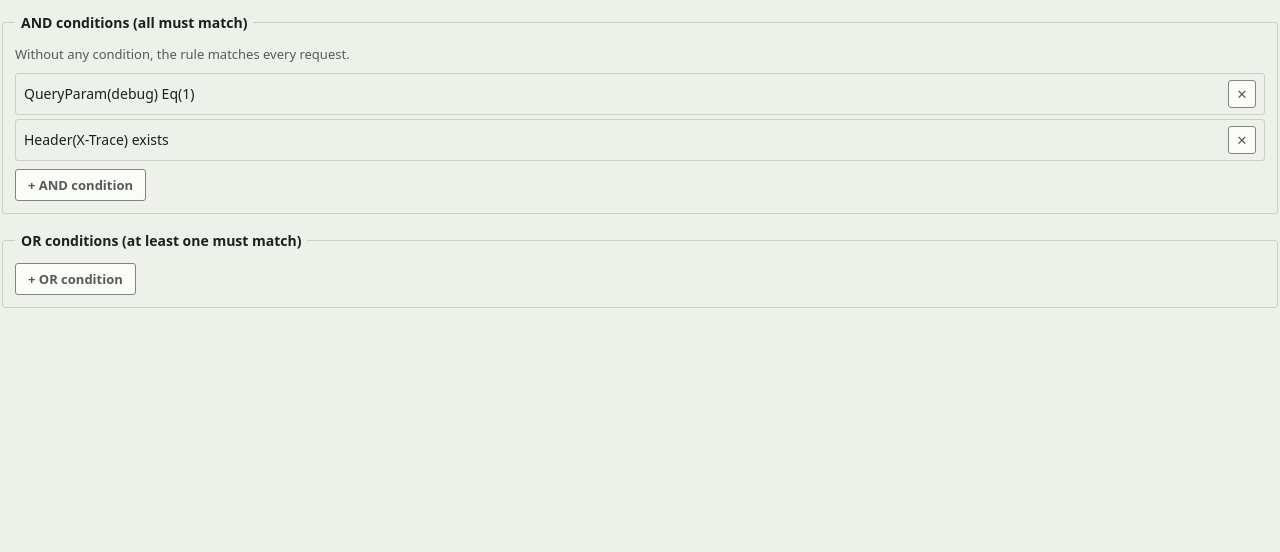
Test: RuleConditionsEditor: in-place edit of an existing condition › clicking a condition opens ConditionForm filled with its current values
This screenshot has width=1280, height=552.
Click the button with test id "rule-form-edit-condition-allof-button-1" at (96, 140), box [18, 125, 1226, 154]
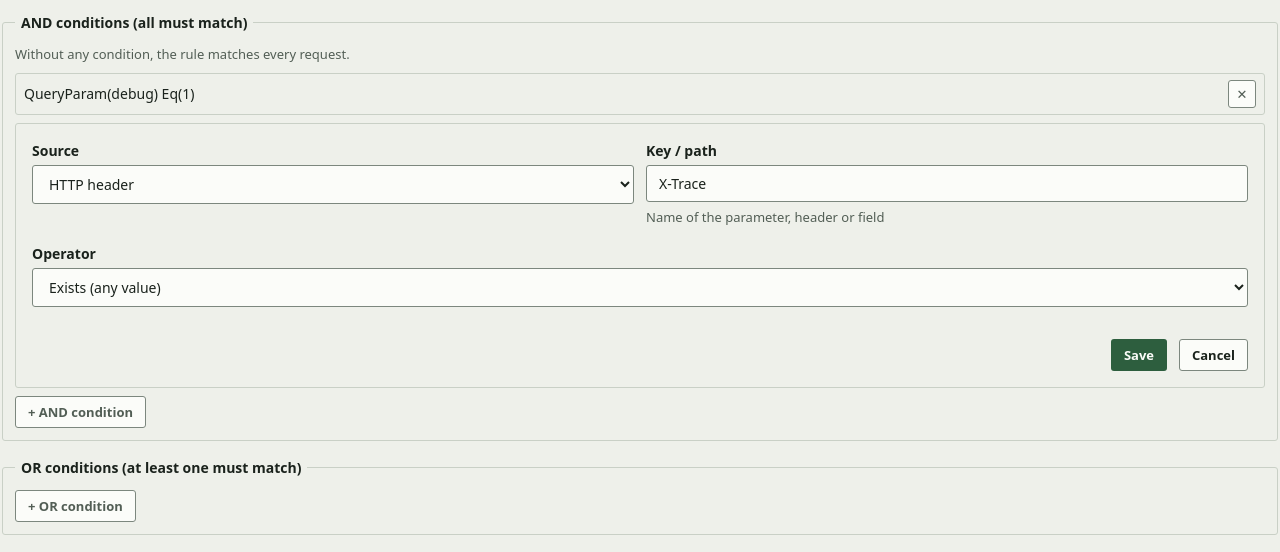
Expected: the button with test id "rule-form-edit-condition-allof-button-1" is gone
Expected: the dropdown labelled "Source" shows "HTTP header", [32, 164, 634, 204]
Expected: the field labelled "Key / path" holds "X-Trace", [646, 164, 1248, 202]
